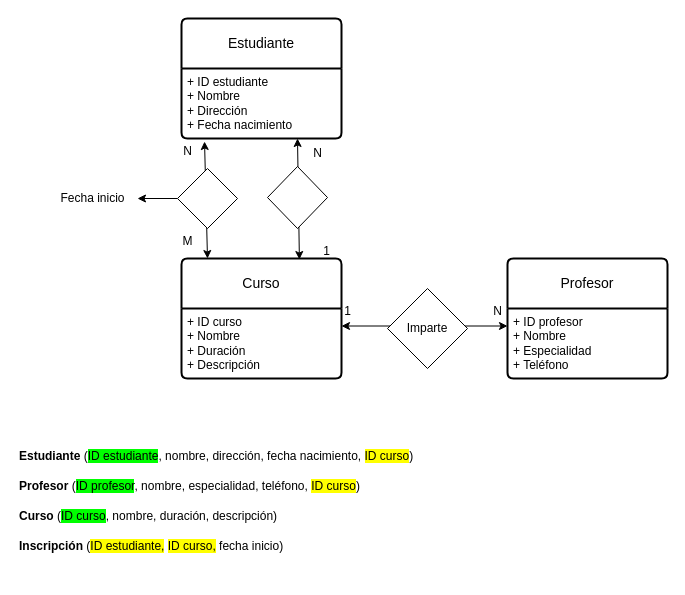
This 685x595 diagram has some shape labels left out. Each missing label, with the centre of its shape:
Inscrito: the point at 207,198
Pertenece: the point at 297,197
